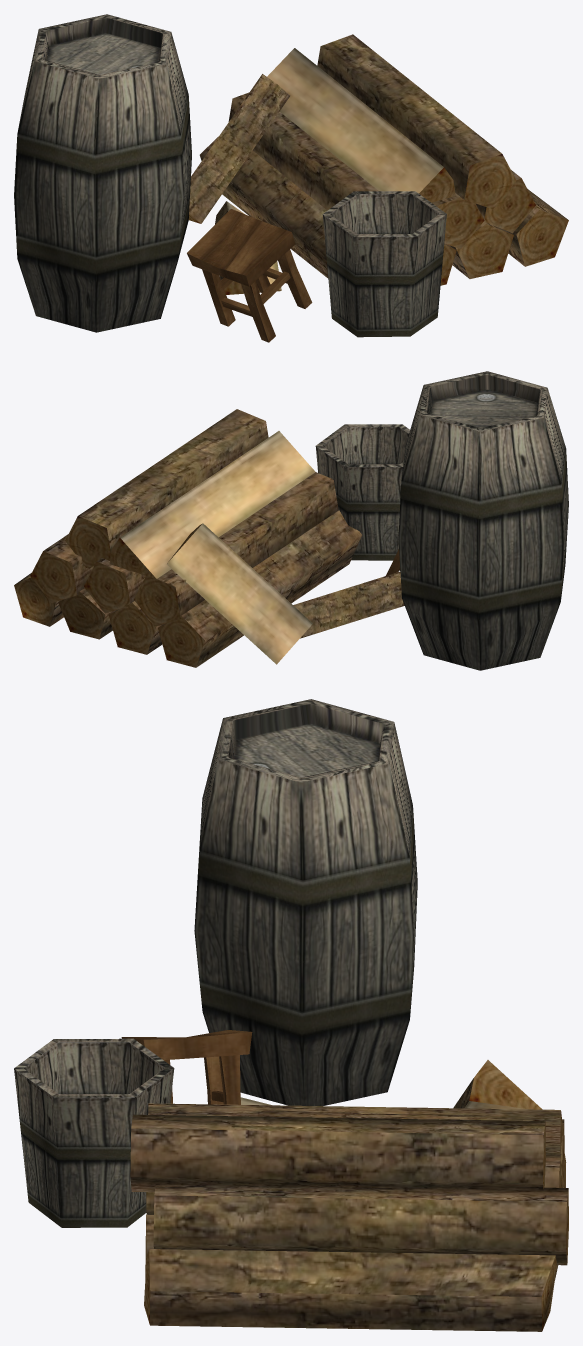
File: prop_group02.fbx
3 views of the same model, one above another, from view 1: azimuth 30°, elevation 25°; view 2: azimuth 150°, elevation 25°; view 3: azimuth 270°, elevation 25° (orthographic). The views are drawn at different scales.
Parts seen in each view (by area): view 1: barrel_high, bucket_1, log9, log8, log21, log10, log22, barstool_seat1, log18, log19, log24, log23 (+4 smaller); view 2: barrel_high, log8, log9, bucket_1, log21, log10, log22, log11, log24, log23, log20, log19 (+1 smaller); view 3: barrel_high, log18, log9, log24, bucket_1, log8, barstool_seat1, log10, barstool_leg010.
Boxes of the visible parts, x1,y1,x2,y2 form: barrel_high: [14, 14, 191, 332]; bucket_1: [322, 191, 446, 337]; log9: [317, 34, 516, 208]; log8: [267, 48, 455, 202]; log21: [199, 136, 328, 278]; log10: [188, 74, 290, 223]; log22: [228, 92, 378, 210]; barstool_seat1: [187, 209, 295, 286]; log18: [508, 189, 568, 266]; log19: [452, 221, 513, 278]; log24: [476, 170, 535, 233]; log23: [432, 193, 484, 248]; barrel_high: [398, 371, 568, 670]; log8: [109, 431, 315, 578]; log9: [65, 409, 268, 567]; bucket_1: [315, 424, 409, 560]; log21: [158, 510, 361, 667]; log10: [166, 523, 312, 664]; log22: [134, 472, 338, 626]; log11: [293, 571, 404, 638]; log24: [30, 534, 93, 602]; log23: [84, 558, 145, 613]; log20: [109, 601, 162, 654]; log19: [58, 588, 113, 639]; barrel_high: [194, 699, 417, 1105]; log18: [144, 1249, 556, 1331]; log9: [130, 1114, 545, 1192]; log24: [153, 1184, 568, 1265]; bucket_1: [14, 1038, 174, 1227]; log8: [148, 1103, 563, 1157]; barstool_seat1: [121, 1030, 252, 1060]; log10: [453, 1060, 542, 1109]; barstool_leg010: [219, 1055, 240, 1104].
Size of the model in its own units: 915 by 482 by 683.
1 material, 1 textured.
